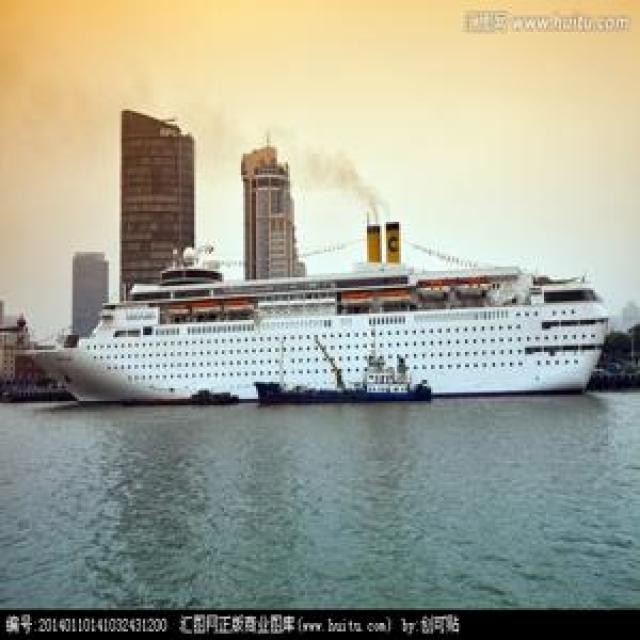passenger ship: (18, 235, 601, 410)
